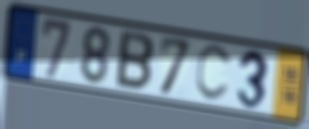3: (234, 47, 273, 113)
7: (39, 14, 74, 82), (158, 33, 194, 99)
8: (79, 24, 111, 86)
B: (113, 27, 156, 93)
C: (194, 44, 234, 104)
